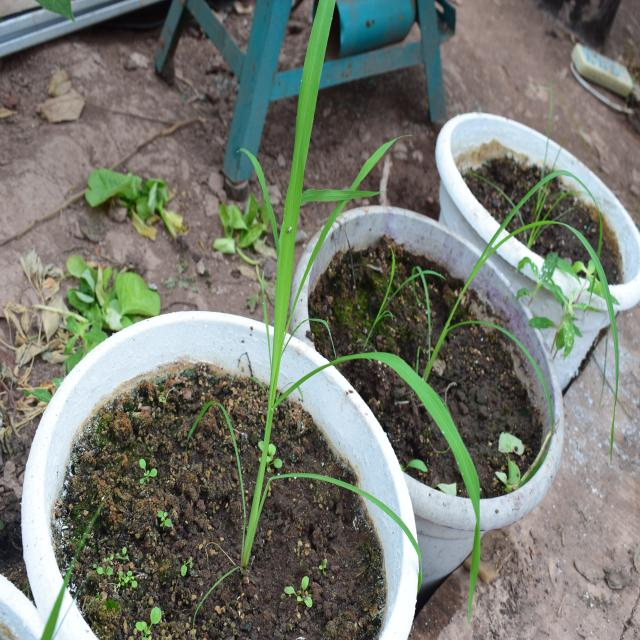barnyard_grass: (224, 0, 503, 545)
